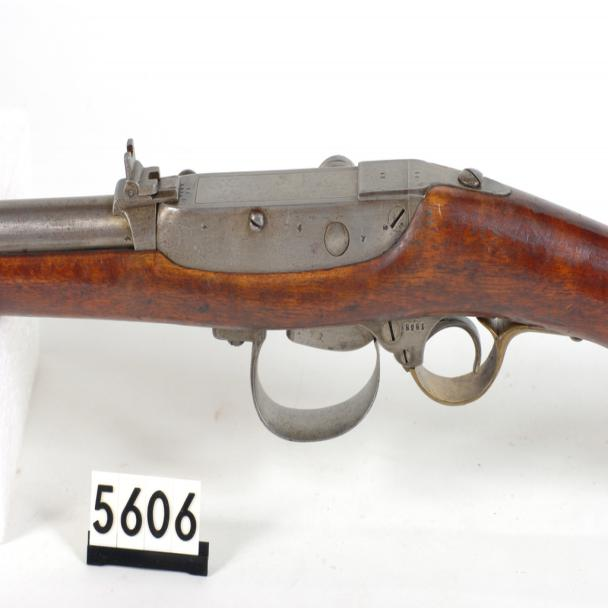Gun: (2, 144, 607, 450)
